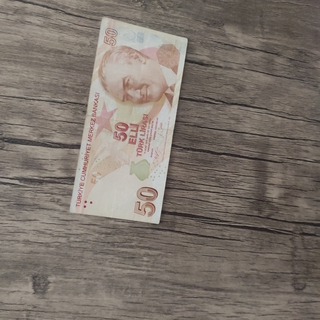50TLFront: (70, 16, 188, 224)
